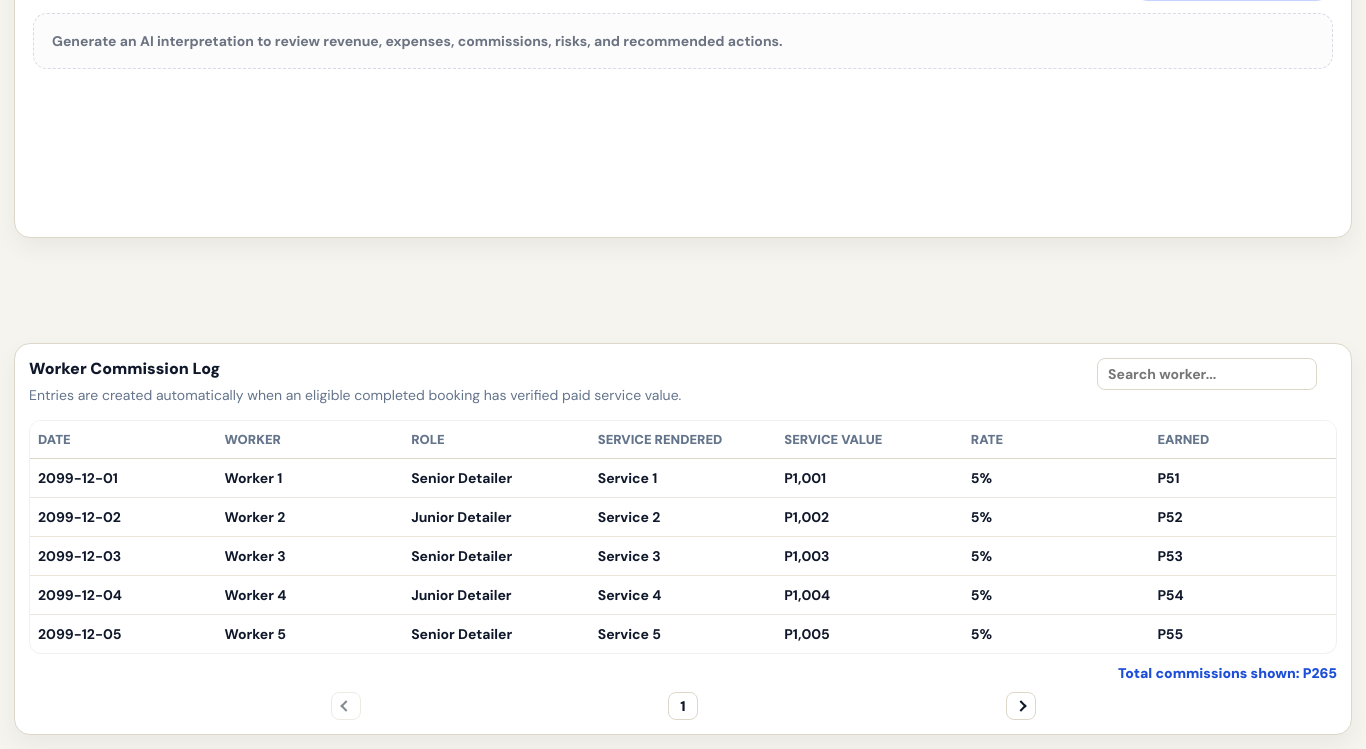
Test: Financial Tracker commission log pagination › paginates commission records with existing previous/current/next controls
The width and height of the screenshot is (1366, 749).
(page scrolled)
Expected: the text "Worker 1" is shown, [217,458,403,498]
Expected: the text "Worker 5" is shown, [217,614,403,653]
Click the button named "Next commission page" at (1020, 706), box [1006,692,1036,720]
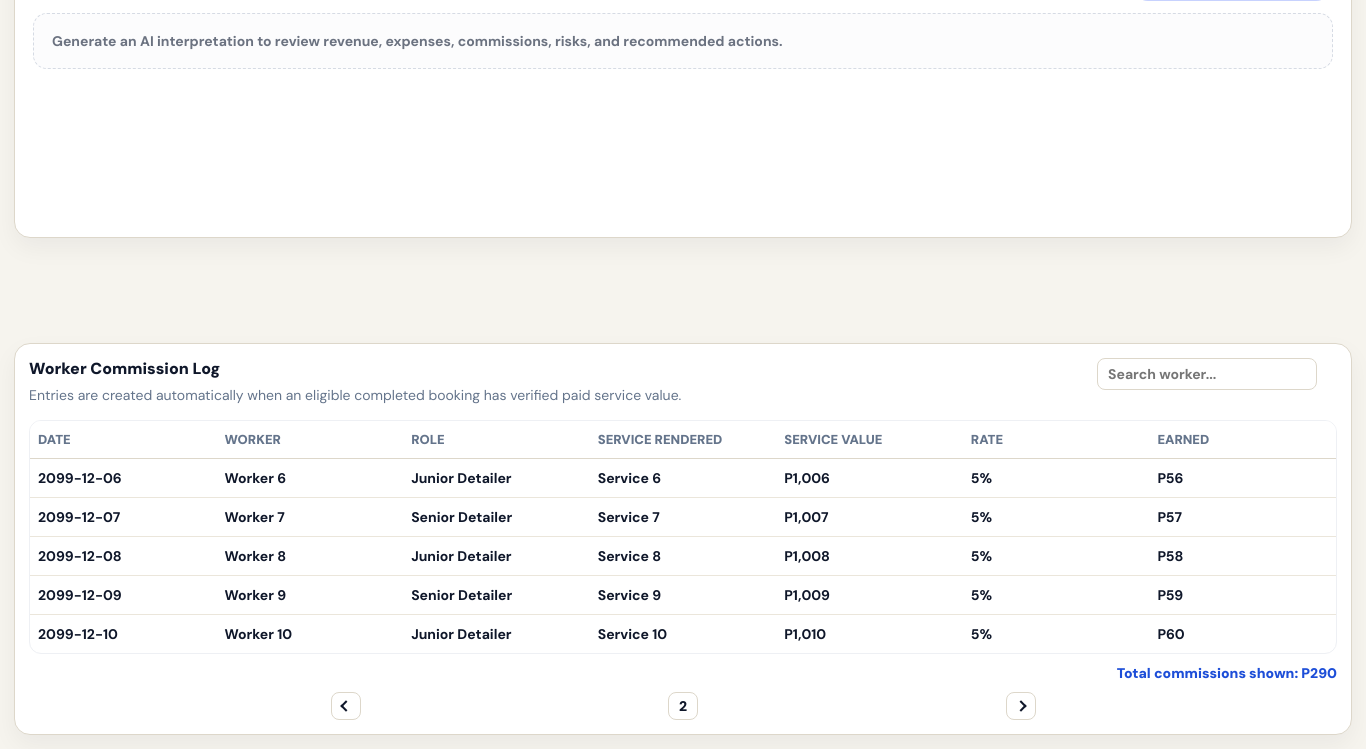
Now the text named "Commission page 2" reads "2", box [679,697,687,715]
Now the text "Worker 6" is shown, box [217,458,403,498]
Now the button named "Previous commission page" is enabled, box [330,692,360,720]
